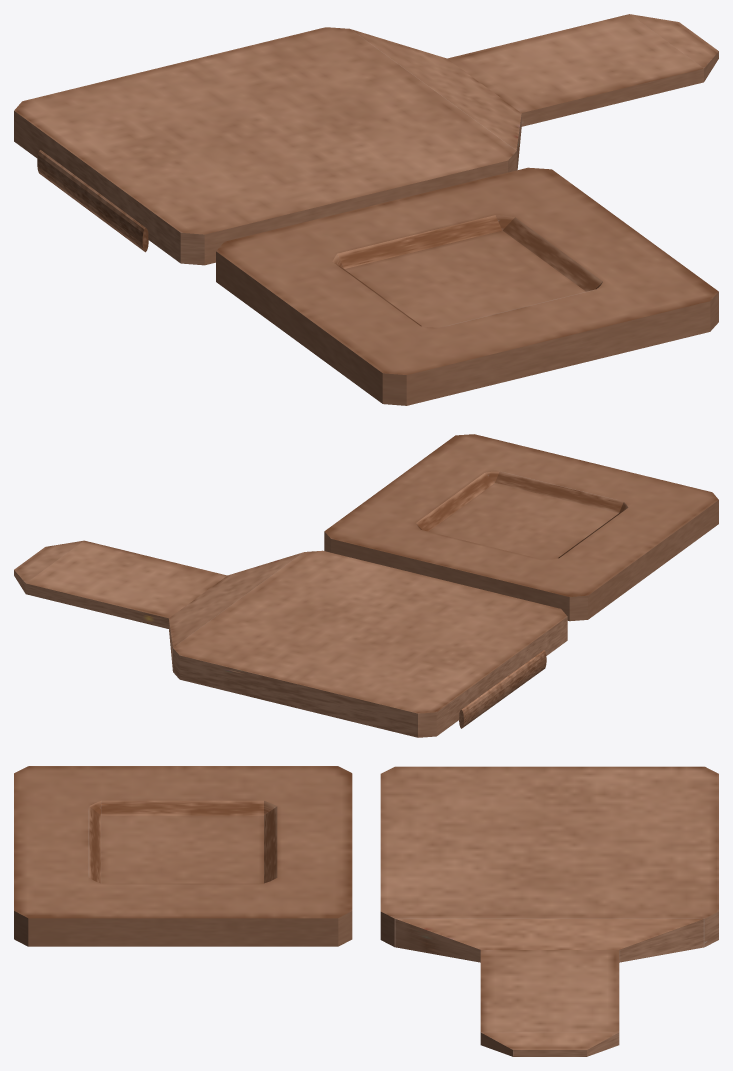
The model's file is pataconera.fbx.
The picture shows the model from 3 angles, top to bottom: view 1: azimuth 30°, elevation 25°; view 2: azimuth 150°, elevation 25°; view 3: azimuth 270°, elevation 25°; orthographic projection. The views are drawn at different scales.
Parts seen in each view (by area): view 1: superior, base, union; view 2: superior, base, union; view 3: superior, base.
Part boxes in pixels (x1,y1,x2,y2): superior: (14, 14, 718, 265); base: (216, 167, 718, 405); union: (37, 150, 148, 252); superior: (14, 540, 567, 737); base: (324, 434, 718, 621); union: (459, 650, 546, 728); superior: (380, 766, 718, 1056); base: (14, 766, 352, 946).
Bounding box in the file's own units: 211 × 15.15 × 228.
